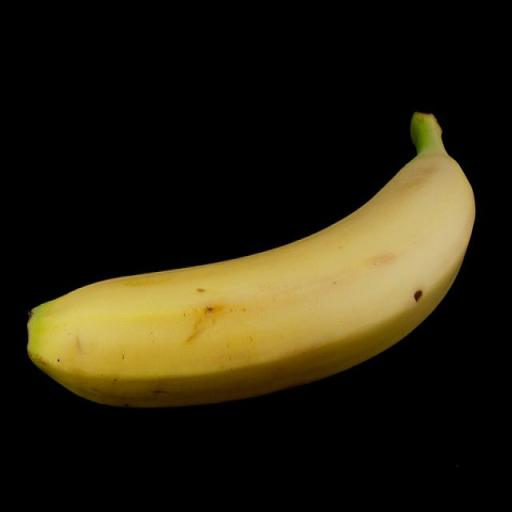fruit: (28, 113, 474, 407)
